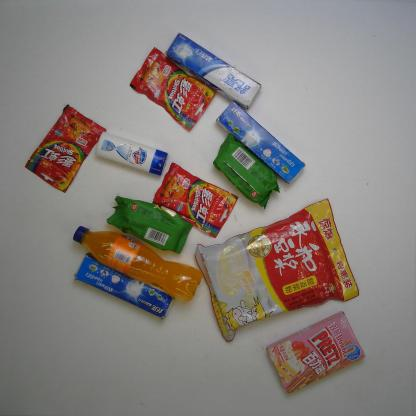Candy: (22, 103, 108, 196), (129, 45, 219, 132), (151, 160, 241, 239)
Dessert: (263, 310, 367, 394), (207, 131, 282, 211), (105, 193, 196, 257)
Drink: (67, 225, 208, 304)
Instant Drink: (193, 193, 361, 345)
Personal Hygiene: (210, 98, 309, 186), (163, 30, 262, 112), (70, 251, 176, 323), (92, 129, 170, 179)
